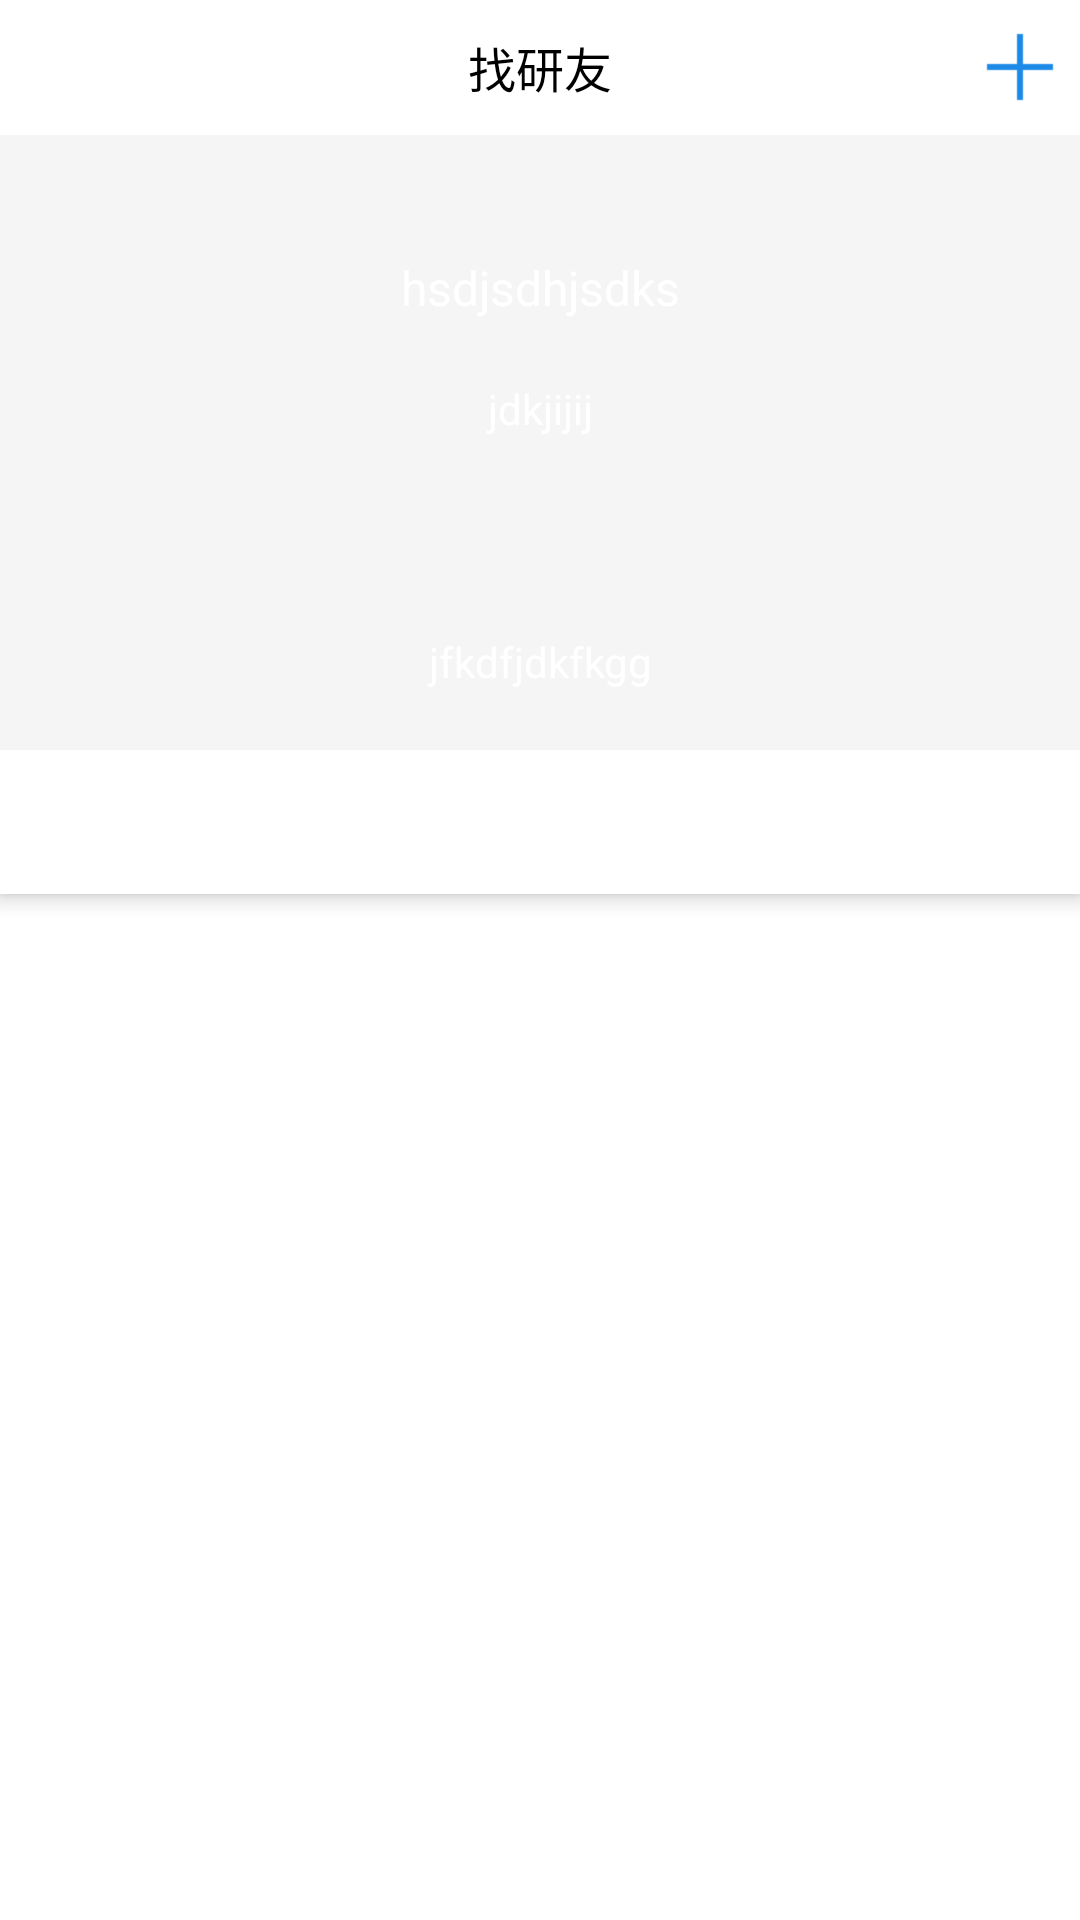

Icon bounding boxes for this 1080w x 1920h phone screenshot, format (x1, y1, x2, y2):
add: (986, 33, 1054, 101)
